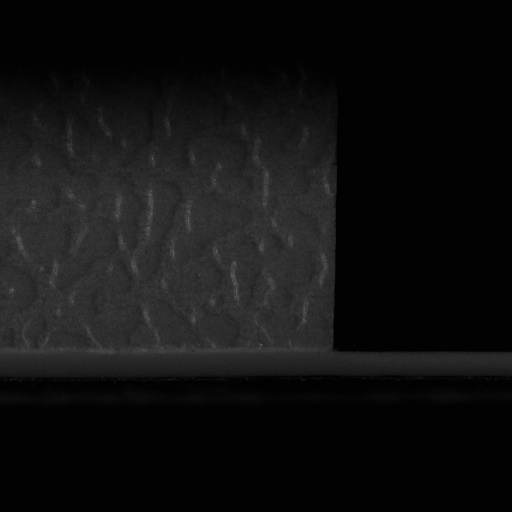changdai: (331, 346, 507, 380)
